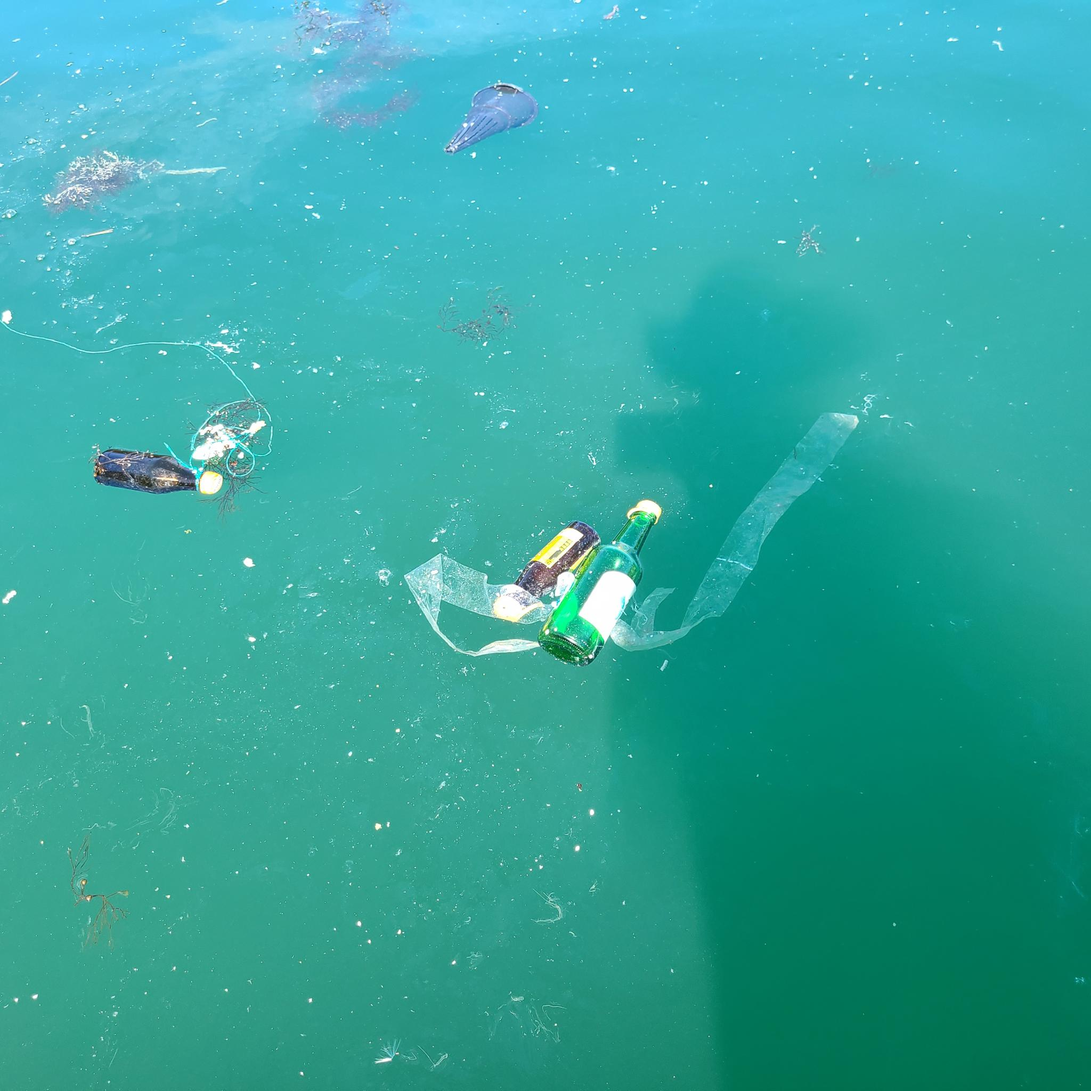sampah_terapung: (537, 501, 662, 667), (493, 522, 601, 623), (444, 84, 539, 156), (94, 449, 224, 495)
